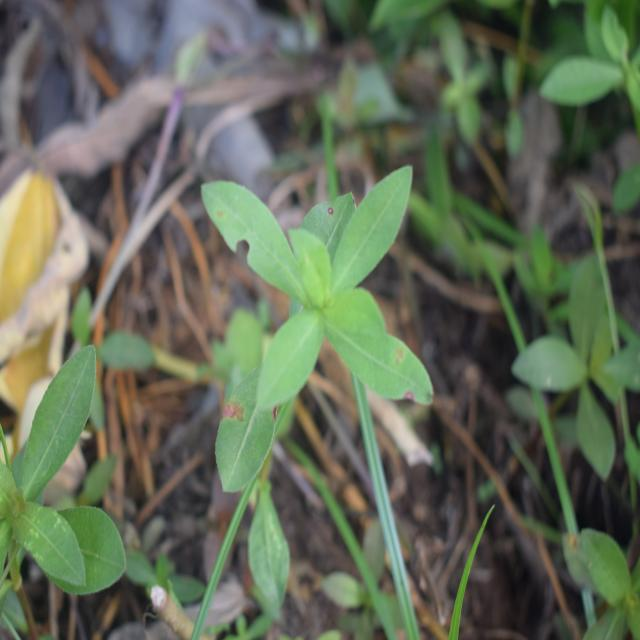Alligatorweed: (194, 136, 439, 510)
